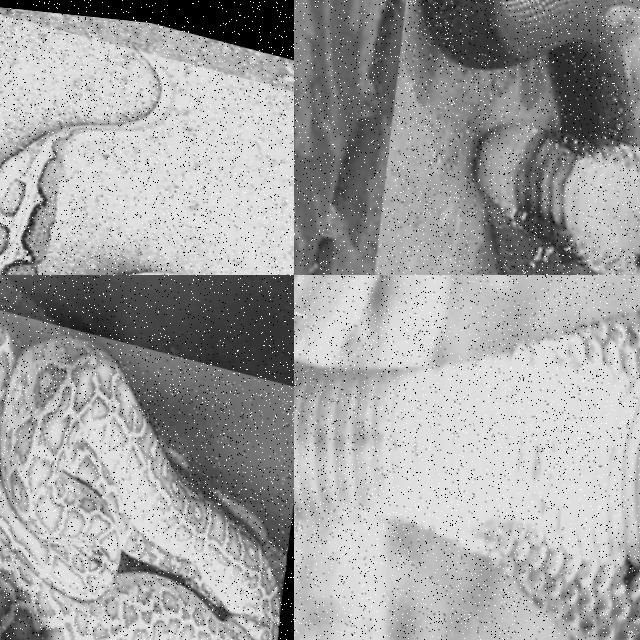Daboia siamensis: (0, 53, 173, 274)
Naja kaouthia: (425, 0, 639, 274)
Ophiophagus hannah: (294, 275, 639, 639)
Python bivittatus: (0, 326, 279, 639)
